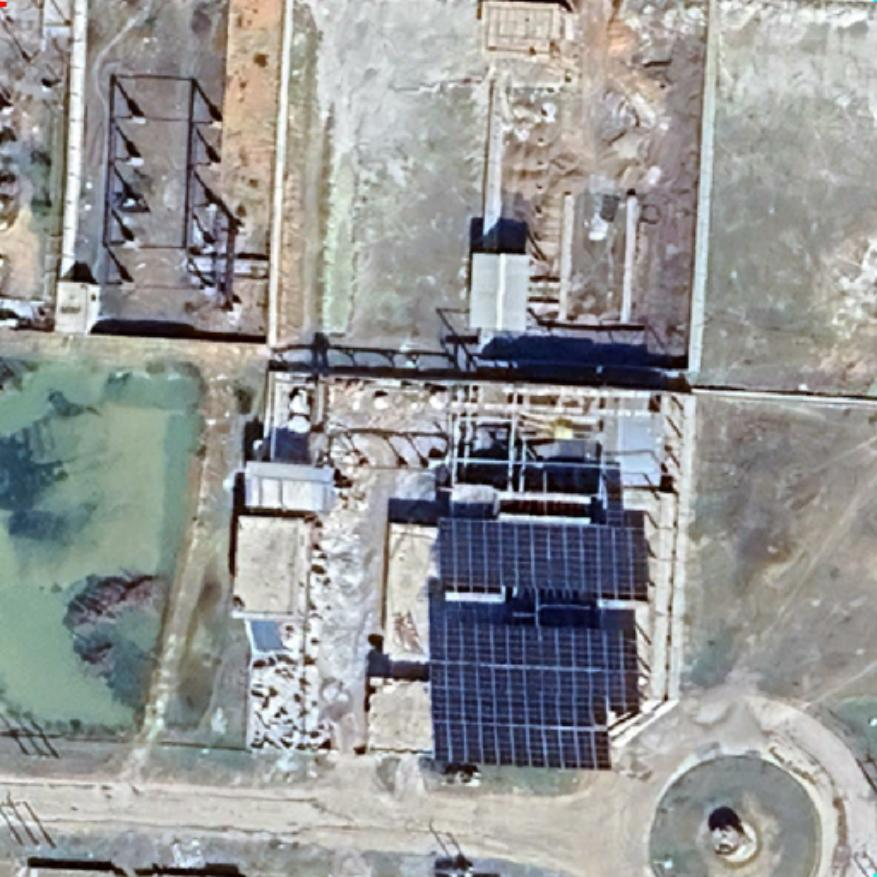Solarpanel: (426, 602, 638, 774), (434, 512, 652, 602)
